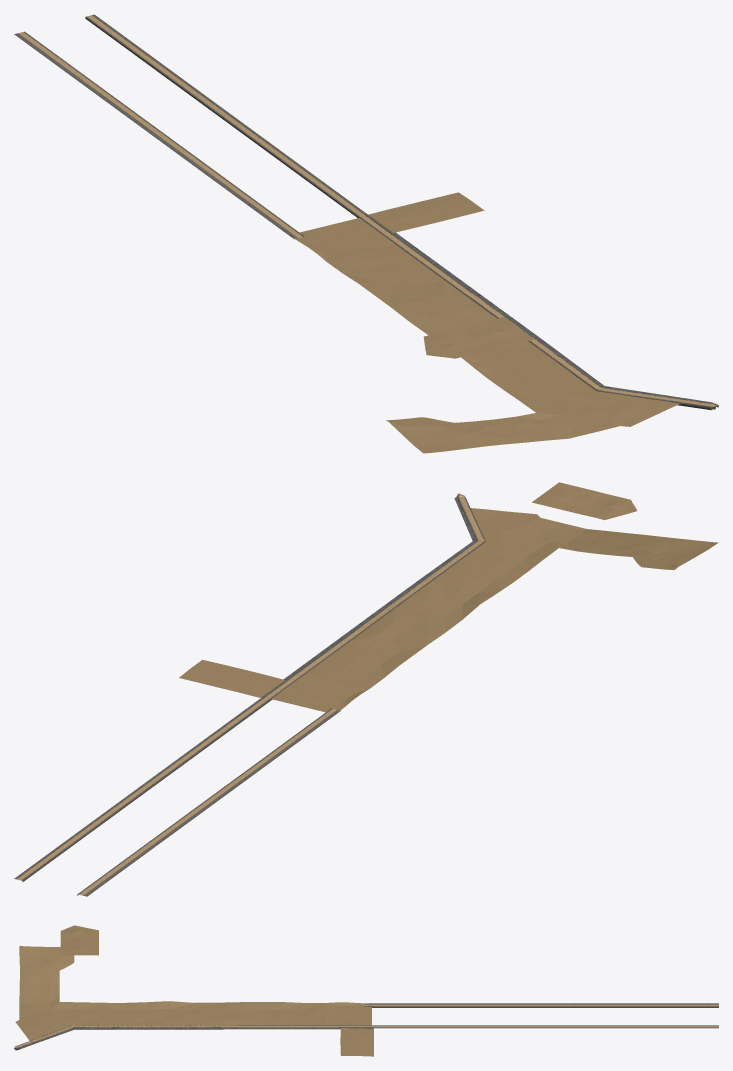
File: SM_ENV_KNVLLG_ground_02.fbx
3 renders of one model, top to bottom at view 1: azimuth 30°, elevation 25°; view 2: azimuth 150°, elevation 25°; view 3: azimuth 270°, elevation 25°, orthographic. The views are drawn at different scales.
Visible parts, largest first — view 1: SM_ENV_KNVLLG_ground_02.mo; view 2: SM_ENV_KNVLLG_ground_02.mo; view 3: SM_ENV_KNVLLG_ground_02.mo.
Boxes of the visible parts, x1,y1,x2,y2 form: SM_ENV_KNVLLG_ground_02.mo: (14,14,718,453); SM_ENV_KNVLLG_ground_02.mo: (14,482,718,896); SM_ENV_KNVLLG_ground_02.mo: (14,925,718,1056).
Size of the model in its own units: 12477 by 3049 by 38202.
